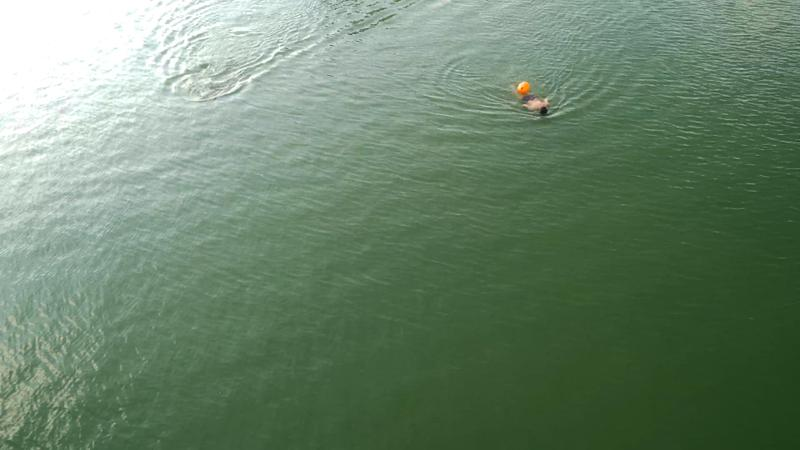swimmers: (508, 84, 550, 116)
